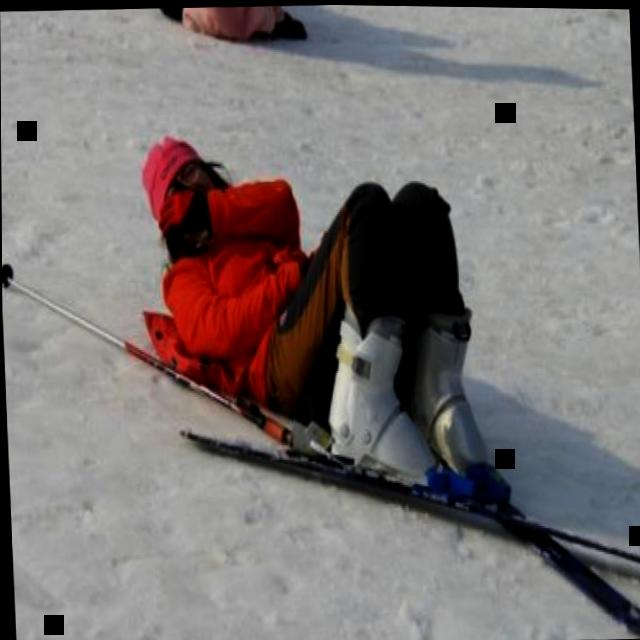Fall-Detected: (123, 83, 518, 520)
